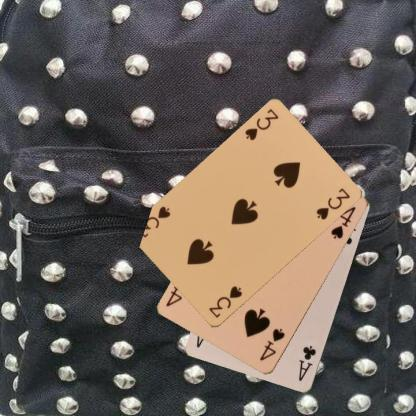3s: (206, 283, 244, 320), (242, 106, 280, 143)
4s: (257, 326, 287, 363)
Ac: (296, 343, 318, 383)
